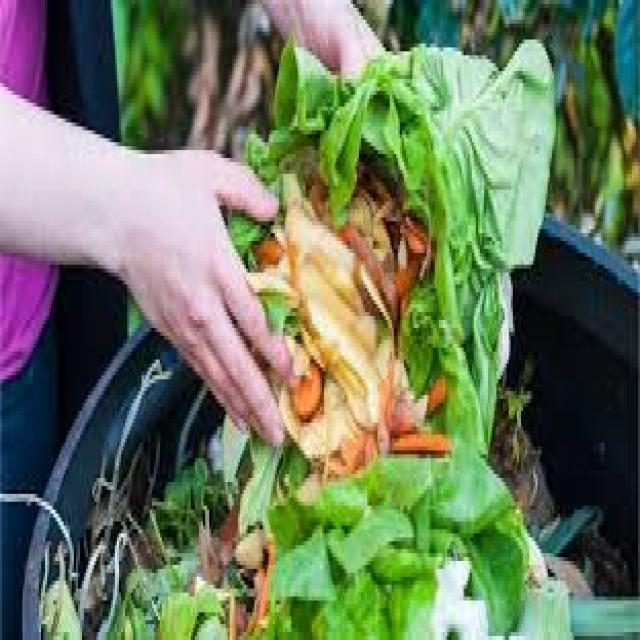food_waste: (303, 147, 506, 594), (130, 475, 463, 602)
